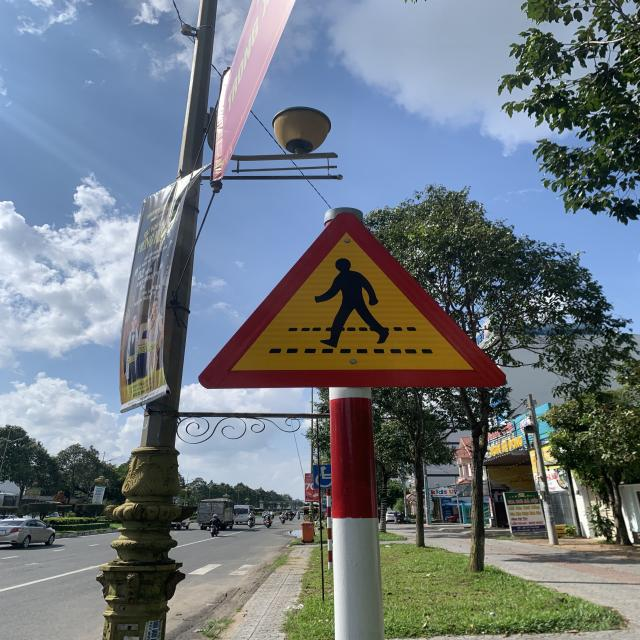Duong_Nguoi_Di_Bo_Sang_Ngang: (202, 214, 510, 386)
